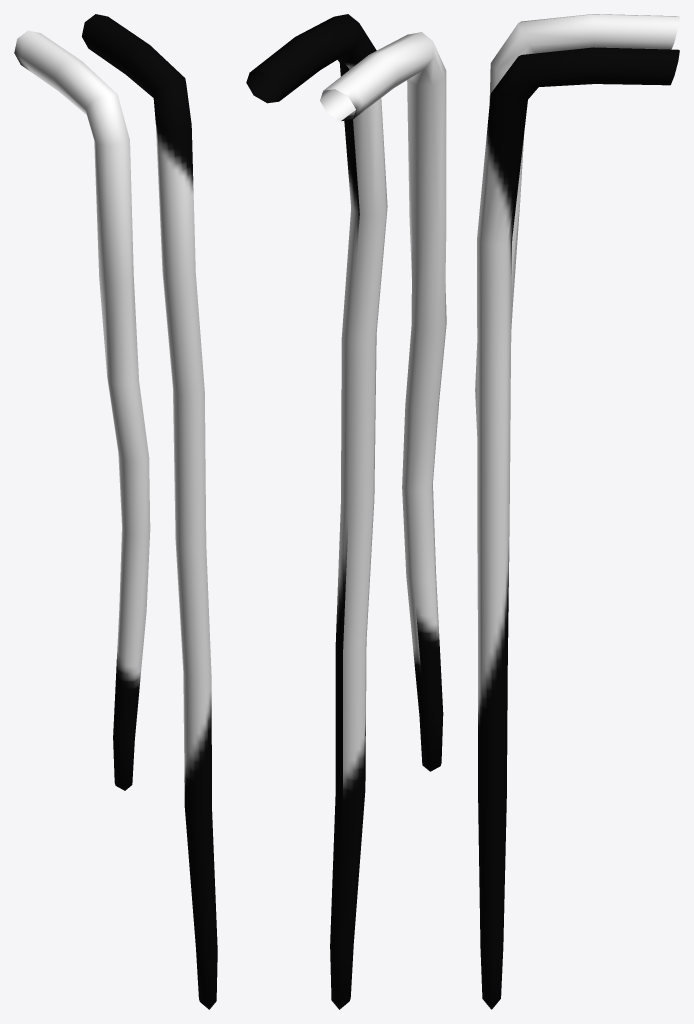
The model's file is long vine.FBX.
3 views of the same model, side by side, from view 1: azimuth 30°, elevation 25°; view 2: azimuth 150°, elevation 25°; view 3: azimuth 270°, elevation 25° (orthographic). The views are drawn at different scales.
Parts seen in each view (by area): view 1: Object051; view 2: Object051; view 3: Object051.
Boxes of the visible parts, <box> form: Object051: <box>14,14,217,1009</box>; Object051: <box>246,14,446,1009</box>; Object051: <box>475,14,679,1009</box>.
Size of the model in its own units: 34.59 by 275 by 53.62.
